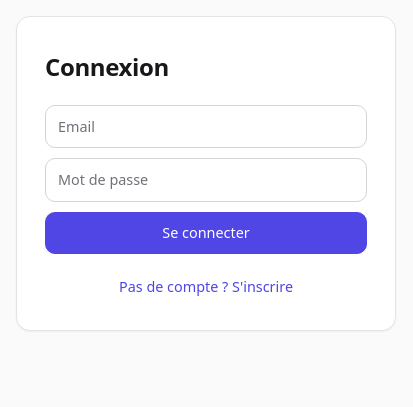
Test: Login › shows an error for invalid credentials
The image size is (413, 407).
Type "wrong@example.com" into the field named "email" at (206, 127), box [45,105,367,149]
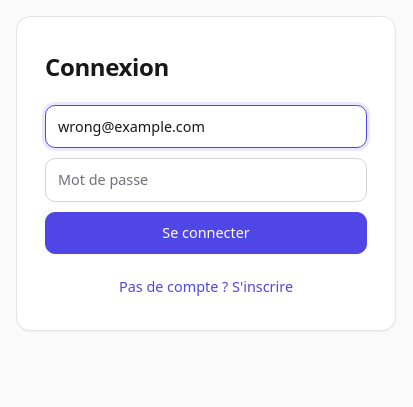
Type "badpassword" into the password field named "password" at (206, 180), box [45,158,367,202]
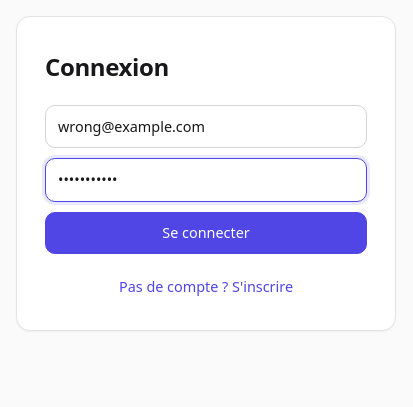
Click the button "Se connecter" at (206, 233), box [45,212,367,254]
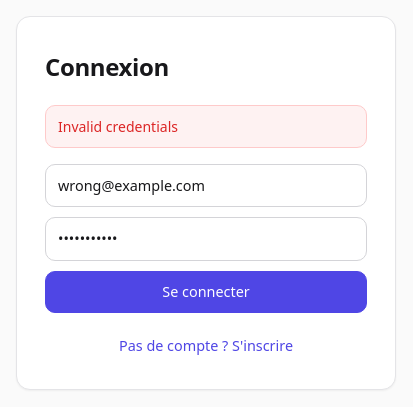
Check: the text "Invalid credentials" is shown, box [45,105,367,148]
